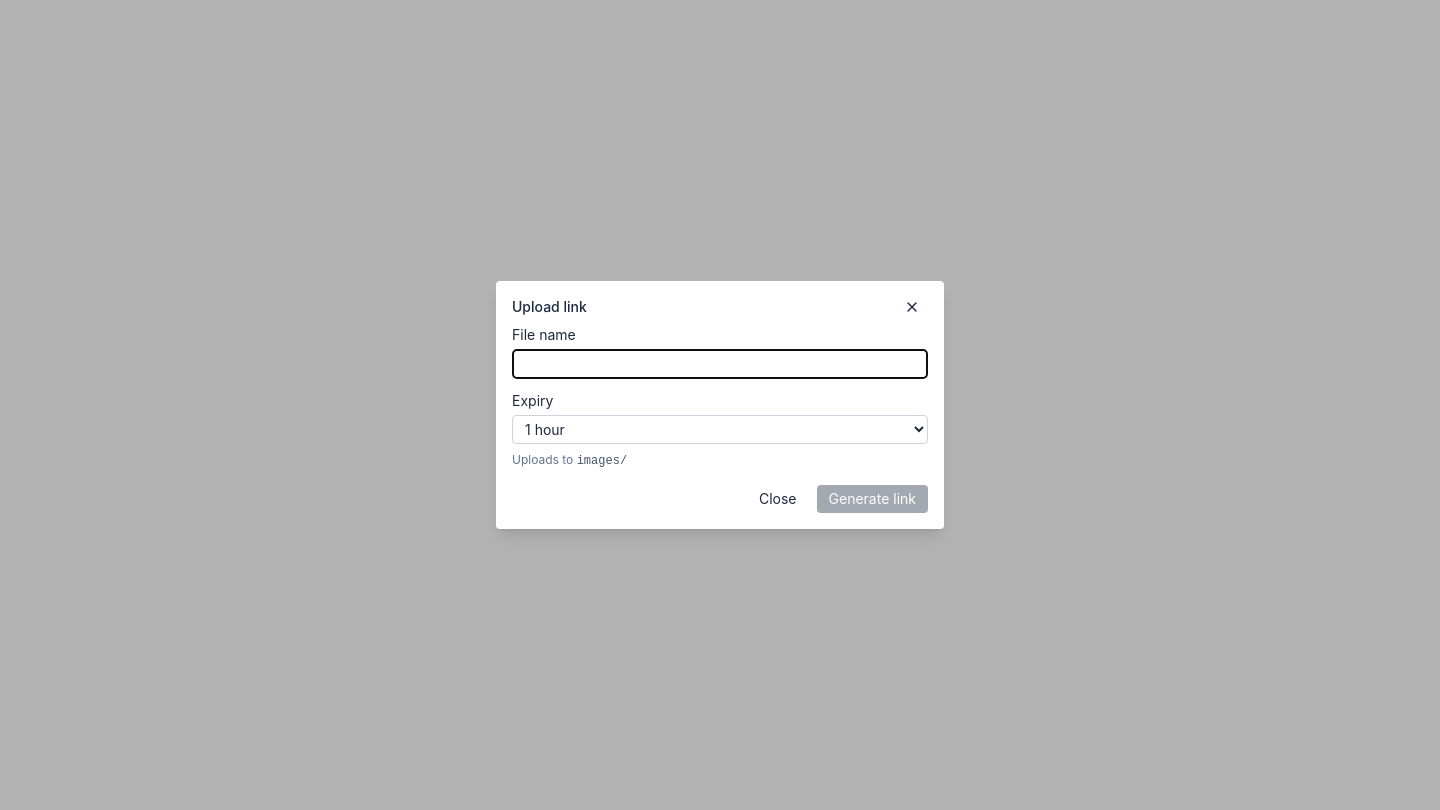
UploadLinkDialog › disables Generate until a valid filename is entered
Expected: the button "Generate link" is disabled, [816,485,928,513]
Type "a/b" into the field labelled "File name". click: (720, 364)
box: [512,349,928,379]
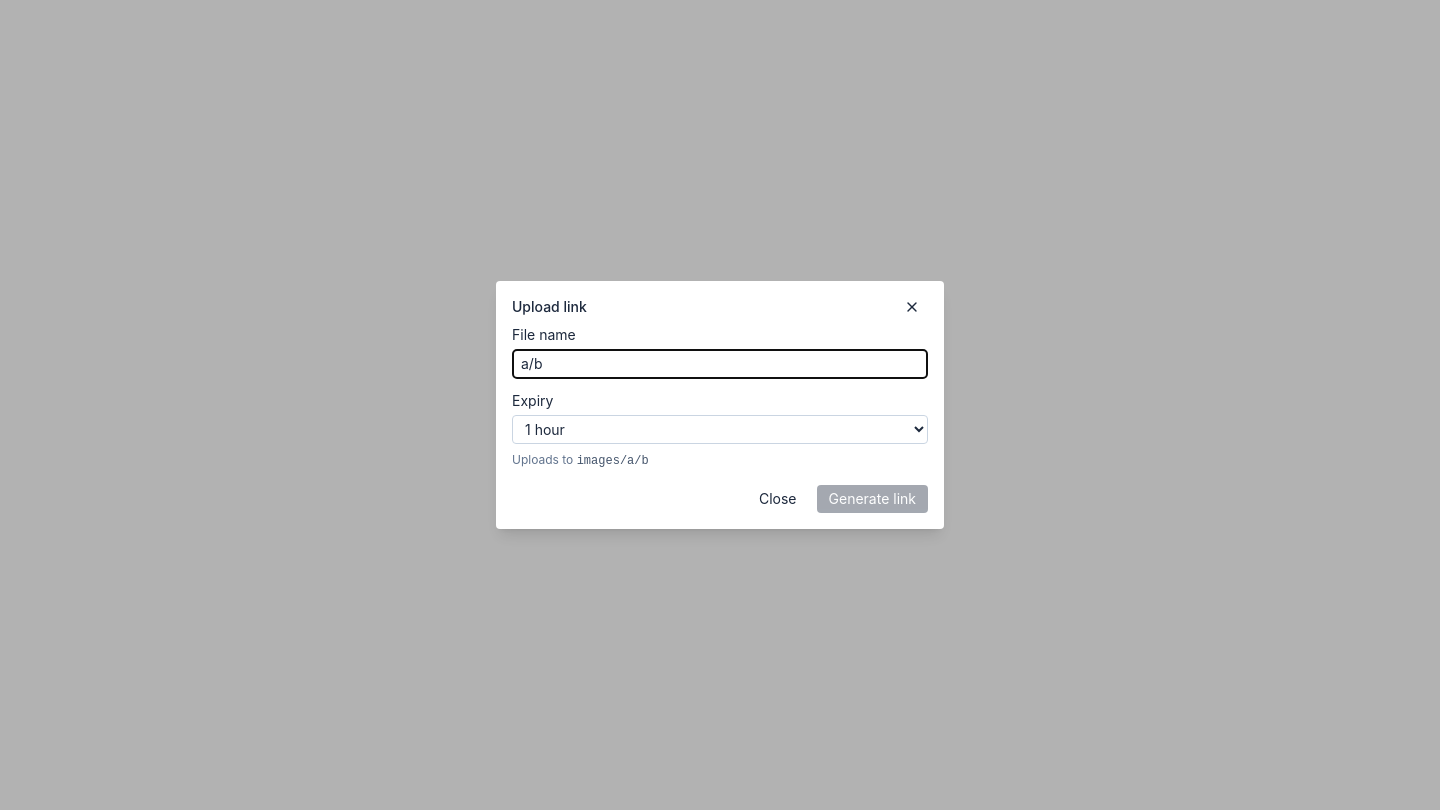
Expected: the button "Generate link" is disabled, [816,485,928,513]
Replace the text in the field labelled "File name" with "report.pdf". click: (720, 364)
box: [512,349,928,379]
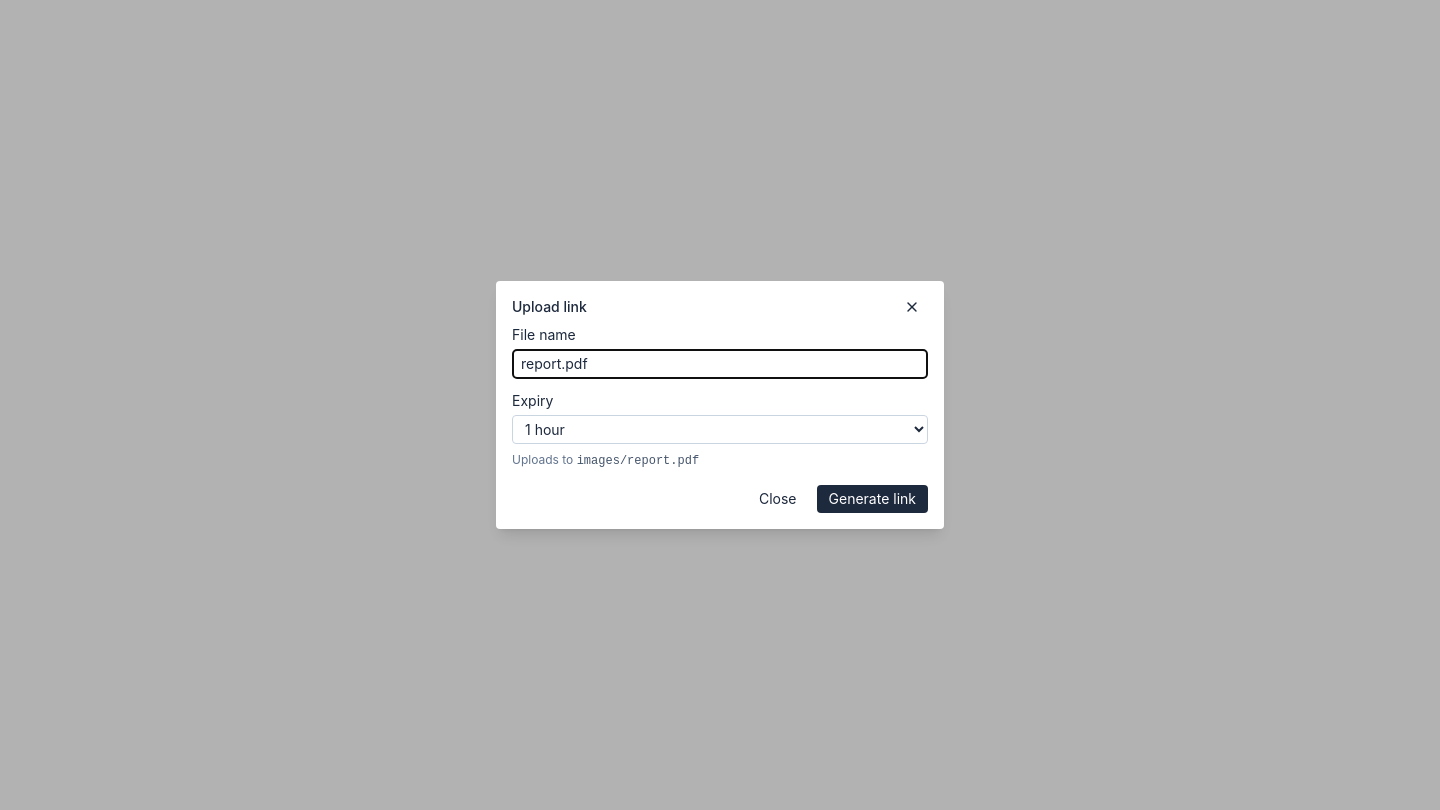
Now the button "Generate link" is enabled, box [816,485,928,513]
